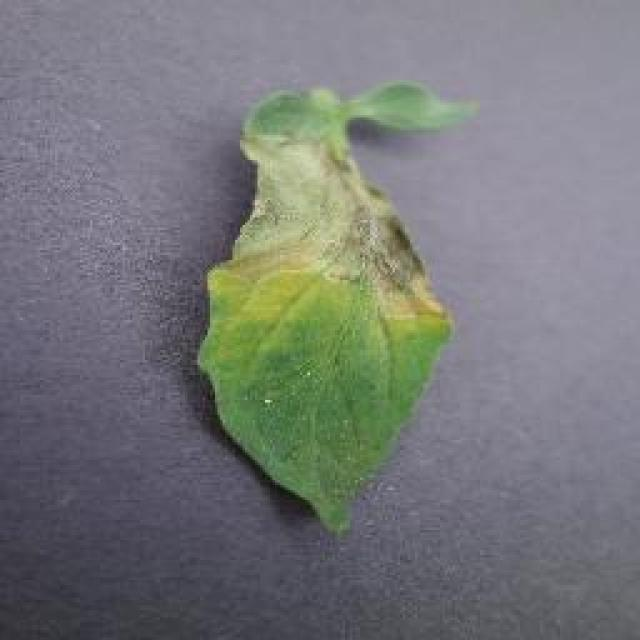leaf blight: (197, 79, 479, 521)
